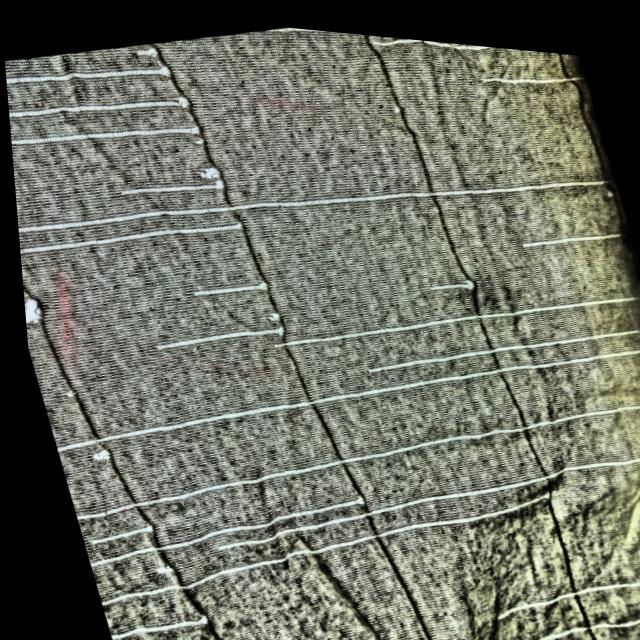Hole: (127, 554, 174, 587), (194, 154, 223, 180), (82, 442, 103, 469)
Stitch: (31, 283, 640, 502), (47, 340, 640, 563), (6, 99, 618, 314), (68, 444, 572, 640), (187, 395, 640, 584), (86, 7, 579, 123), (258, 249, 640, 377), (65, 460, 381, 604), (341, 289, 640, 391), (12, 191, 253, 291), (6, 93, 218, 183), (4, 67, 199, 156), (473, 529, 640, 624), (2, 38, 181, 120), (455, 569, 640, 640), (372, 28, 582, 84), (140, 304, 286, 371), (505, 198, 624, 260), (100, 162, 226, 215), (165, 261, 272, 319), (474, 43, 586, 95), (95, 603, 203, 640), (71, 508, 155, 554), (415, 256, 483, 301), (101, 622, 230, 640), (19, 290, 52, 335), (125, 36, 165, 60)
